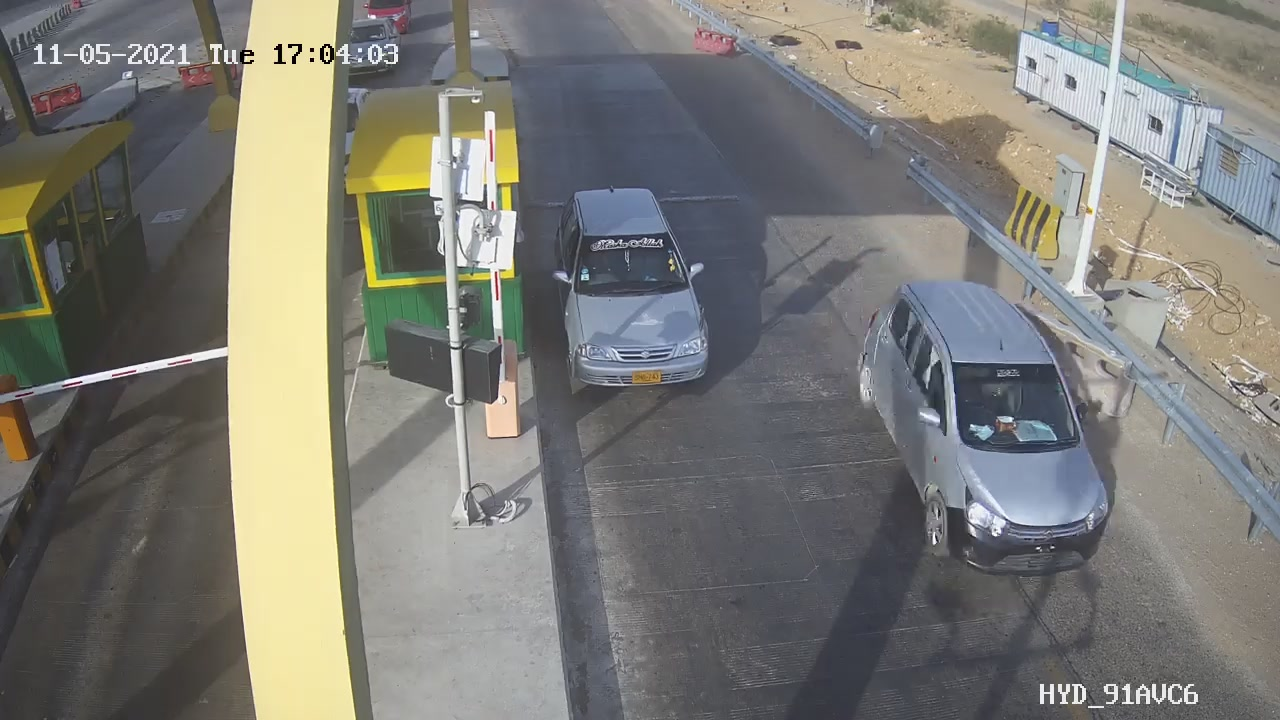F1: (534, 164, 727, 413)
